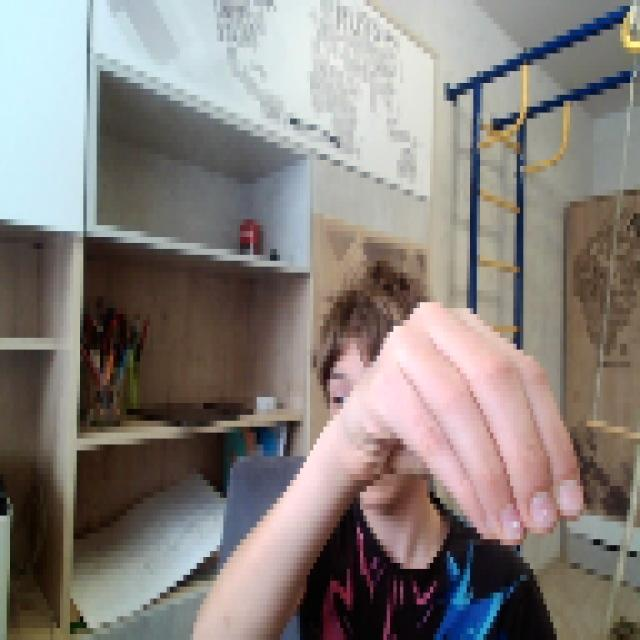left_click: (364, 296, 584, 540)
